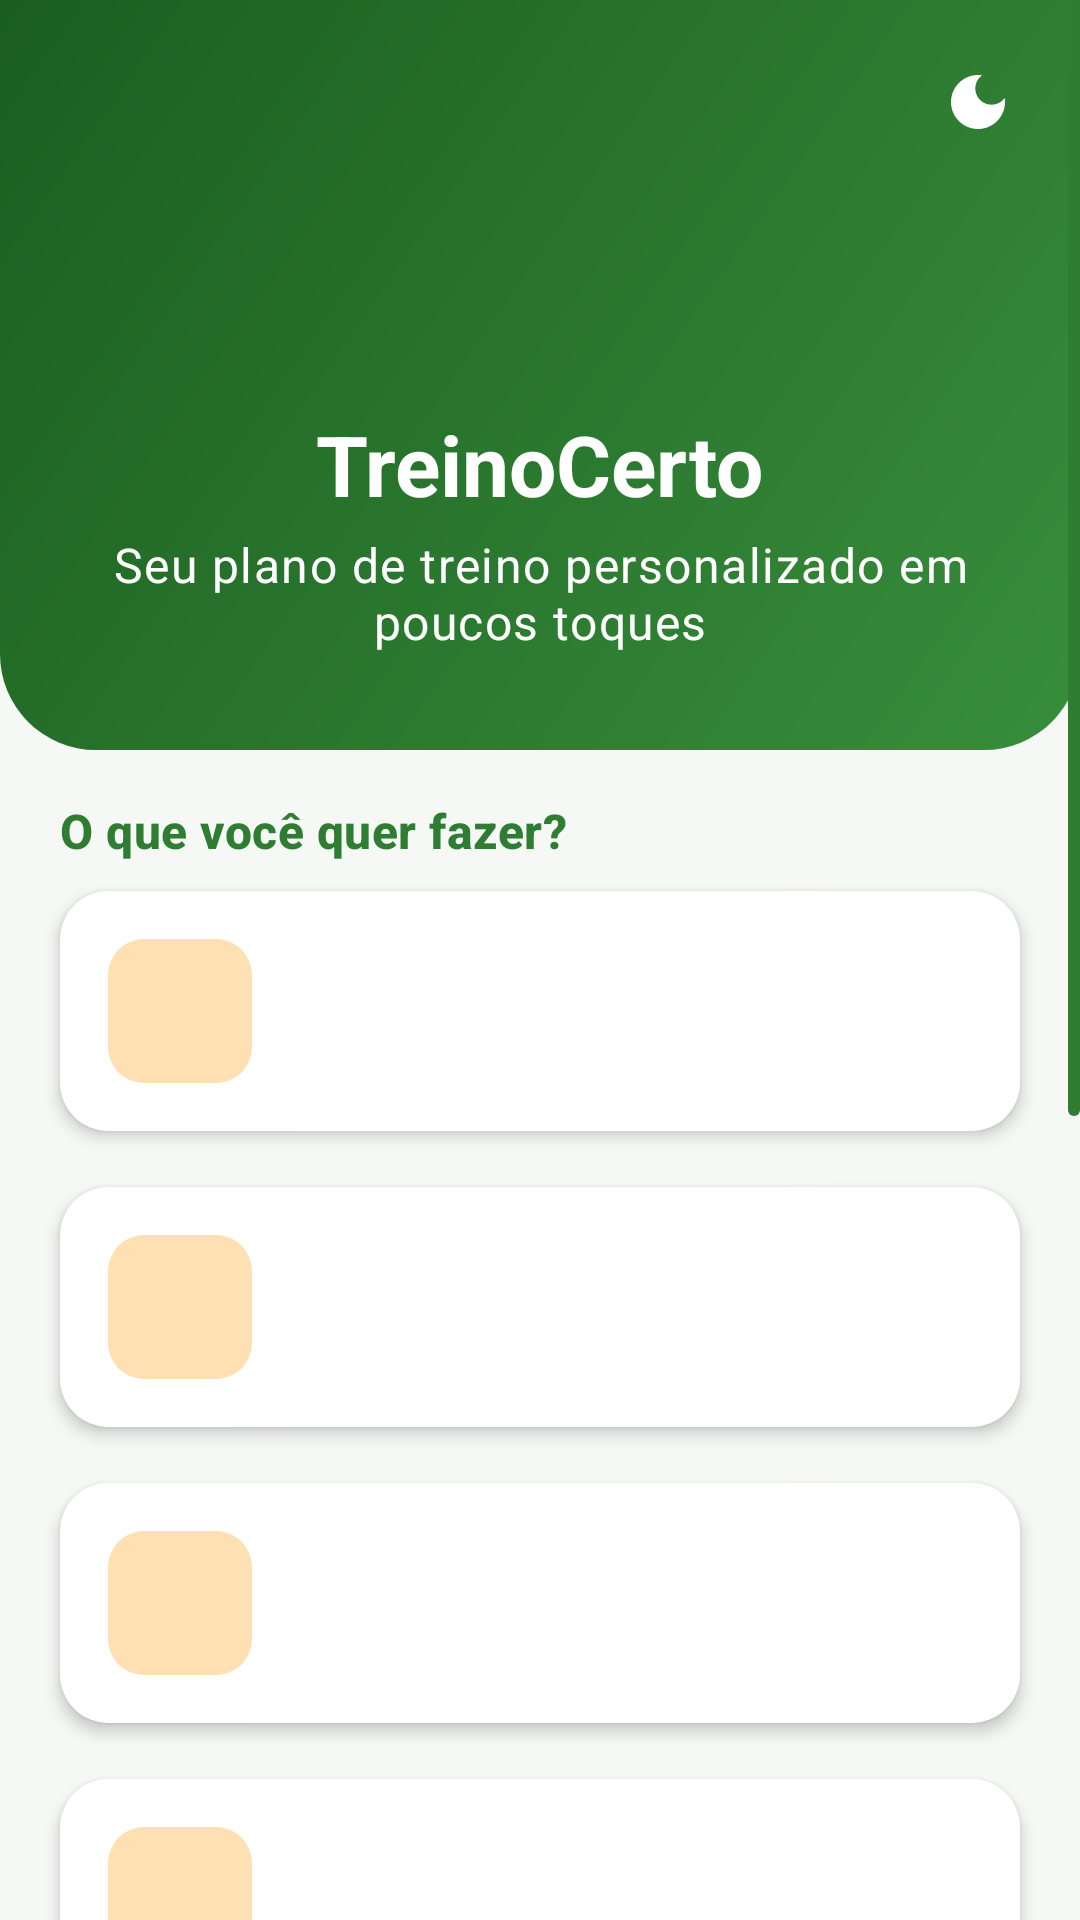

Icon bounding boxes for this 1080×1920 phone screenshot, format bbox(x1, y1, x2, y2):
Alternar tema claro/escuro: bbox(951, 75, 1005, 129)
